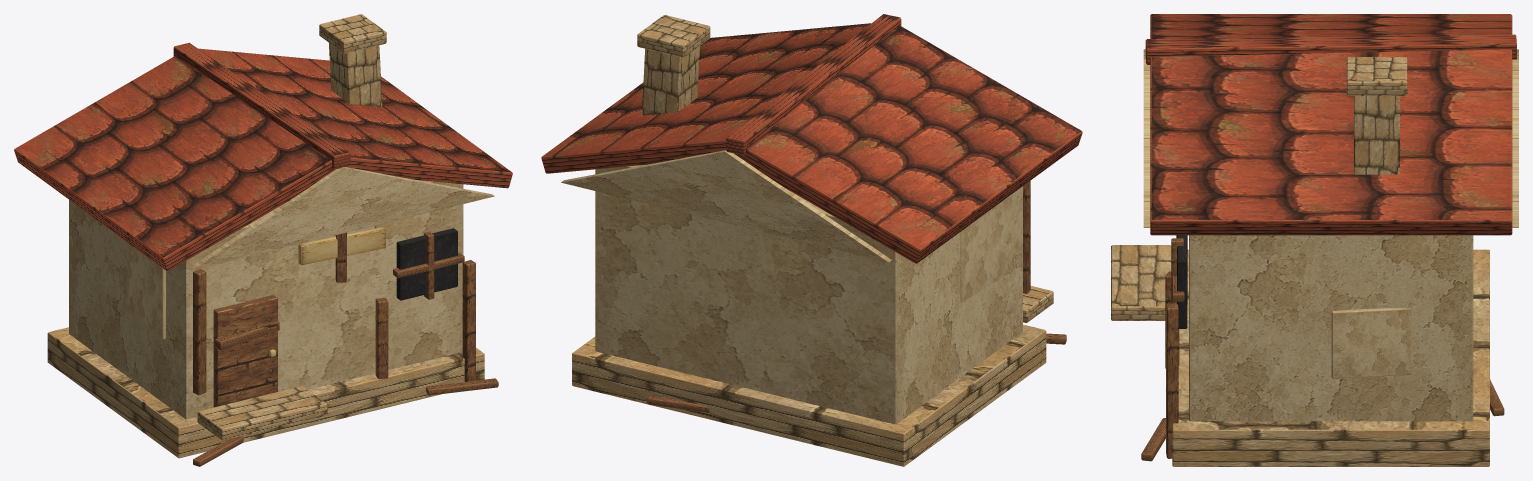
File: damaged-farmhouse.glb
3 views of the same model, side by side, from view 1: azimuth 30°, elevation 25°; view 2: azimuth 150°, elevation 25°; view 3: azimuth 270°, elevation 25° (orthographic). The views are drawn at different scales.
Parts seen in each view (by area): view 1: damaged_farmhouse_landmark, farmhouse_front_roof_gable_closure; view 2: damaged_farmhouse_landmark, farmhouse_rear_roof_gable_closure; view 3: damaged_farmhouse_landmark, farmhouse_front_roof_gable_closure, farmhouse_rear_roof_gable_closure.
Part boxes in pixels (<box>): damaged_farmhouse_landmark: <box>14,14,512,466</box>; farmhouse_front_roof_gable_closure: <box>190,167,494,269</box>; damaged_farmhouse_landmark: <box>541,14,1082,466</box>; farmhouse_rear_roof_gable_closure: <box>561,150,892,262</box>; damaged_farmhouse_landmark: <box>1111,14,1516,466</box>; farmhouse_front_roof_gable_closure: <box>1143,49,1150,227</box>; farmhouse_rear_roof_gable_closure: <box>1512,49,1518,227</box>.
Bounding box in the file's own units: 6.62 × 5.53 × 5.52.
Materials: 10 (10 with a texture image).
